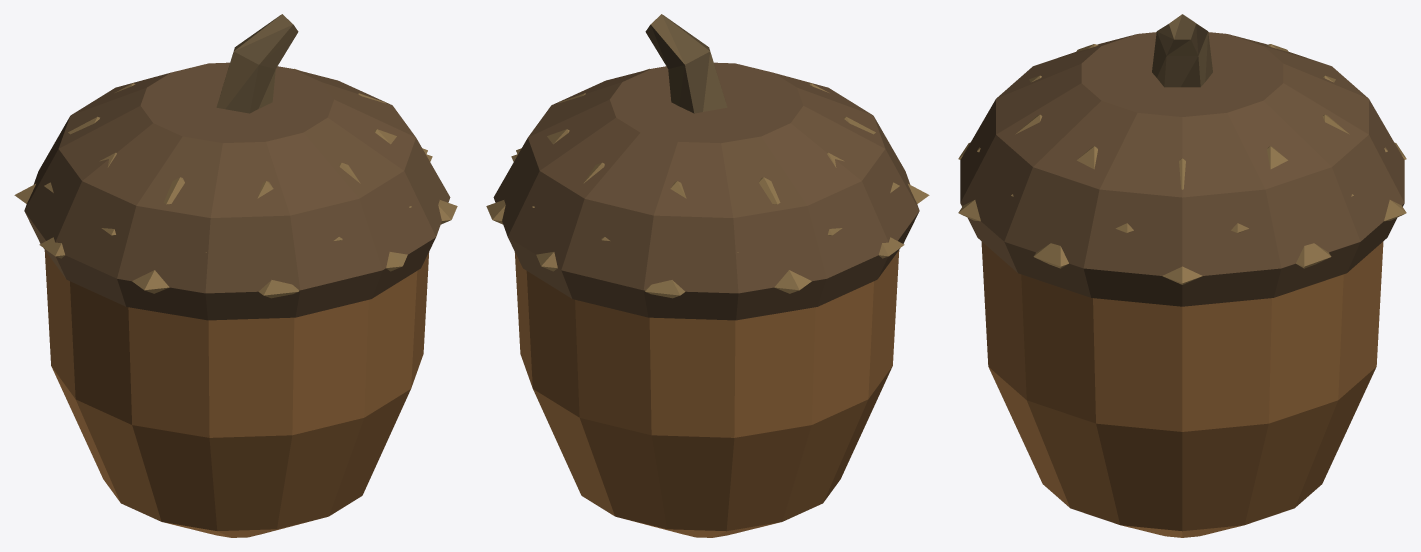
File: seed_oak.glb
3 renders of one model, left to right at view 1: azimuth 30°, elevation 25°; view 2: azimuth 150°, elevation 25°; view 3: azimuth 270°, elevation 25°, orthographic. The views are drawn at different scales.
Parts seen in each view (by area): view 1: seed; view 2: seed; view 3: seed.
Part boxes in pixels (left/top/right/bottom): seed: left=14, top=14, right=457, bottom=537; seed: left=486, top=14, right=929, bottom=537; seed: left=958, top=14, right=1406, bottom=537.
Size of the model in its own units: 0.298 by 0.3673 by 0.2815.
